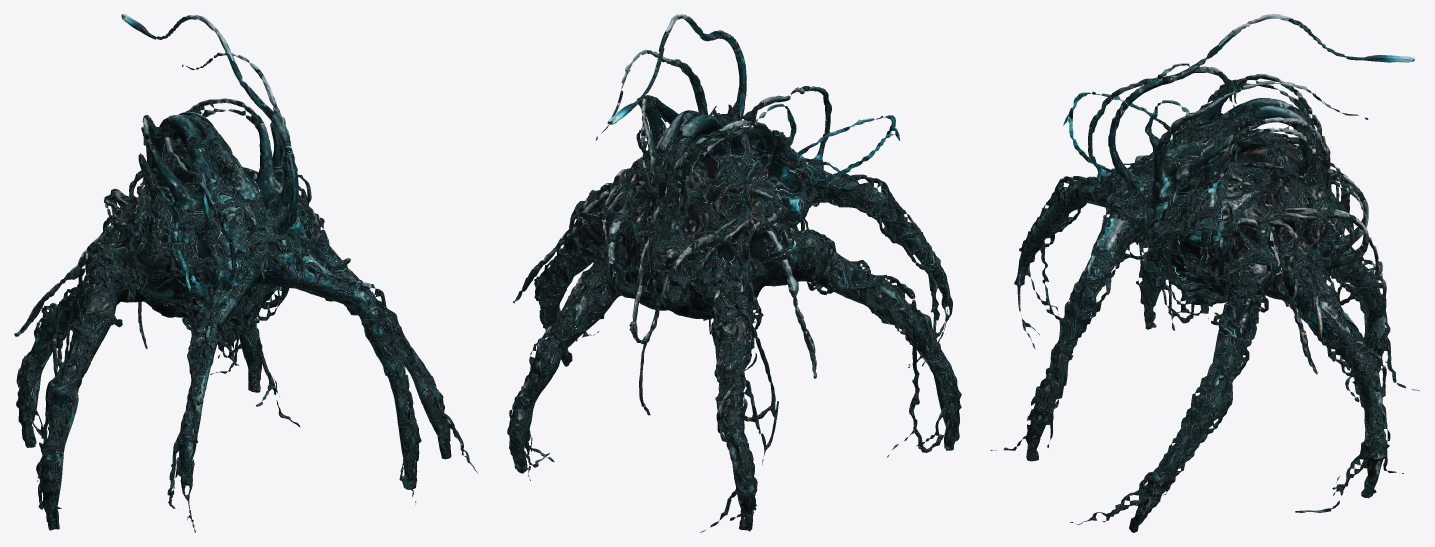
File: mon_spider3d.glb
3 renders of one model, left to right at view 1: azimuth 30°, elevation 25°; view 2: azimuth 150°, elevation 25°; view 3: azimuth 270°, elevation 25°, orthographic. The views are drawn at different scales.
Visible parts, largest first — view 1: monster; view 2: monster; view 3: monster.
Part boxes in pixels (box(x1,y1,x2,y2)): monster: box(14, 14, 477, 532); monster: box(507, 14, 961, 532); monster: box(990, 14, 1419, 532).
Size of the model in its own units: 0.9437 by 0.9969 by 0.8732.
Materials: 1 (1 with a texture image).
